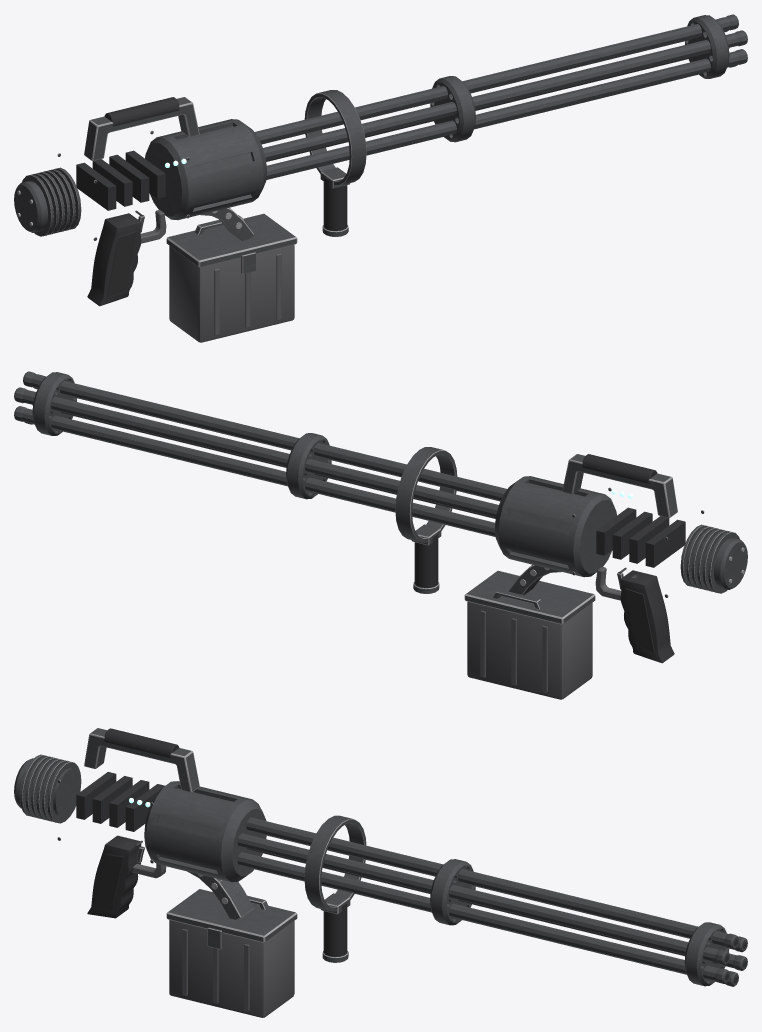
Rendered from w_minigun.glb.
3 views of the same model, one above another, from view 1: azimuth 30°, elevation 25°; view 2: azimuth 150°, elevation 25°; view 3: azimuth 330°, elevation 25° (orthographic).
Parts seen in each view (by area): view 1: W_minigun; view 2: W_minigun; view 3: W_minigun.
Part boxes in pixels (x1,y1,x2,y2): W_minigun: [14, 14, 747, 342]; W_minigun: [14, 371, 747, 699]; W_minigun: [14, 728, 747, 1017].
Size of the model in its own units: 1.04 by 0.3302 by 0.12.
6 materials, 3 textured.
